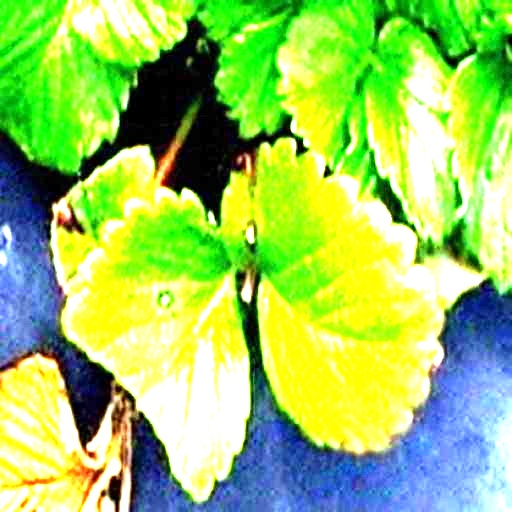Leaf Spot: (64, 188, 249, 502), (50, 145, 155, 299), (219, 172, 257, 306)
